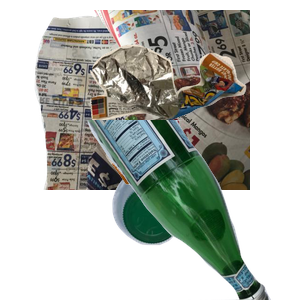glass: (75, 120, 300, 300)
paper: (32, 10, 272, 190)
plastic: (110, 164, 300, 300)
trash: (88, 42, 300, 219)
